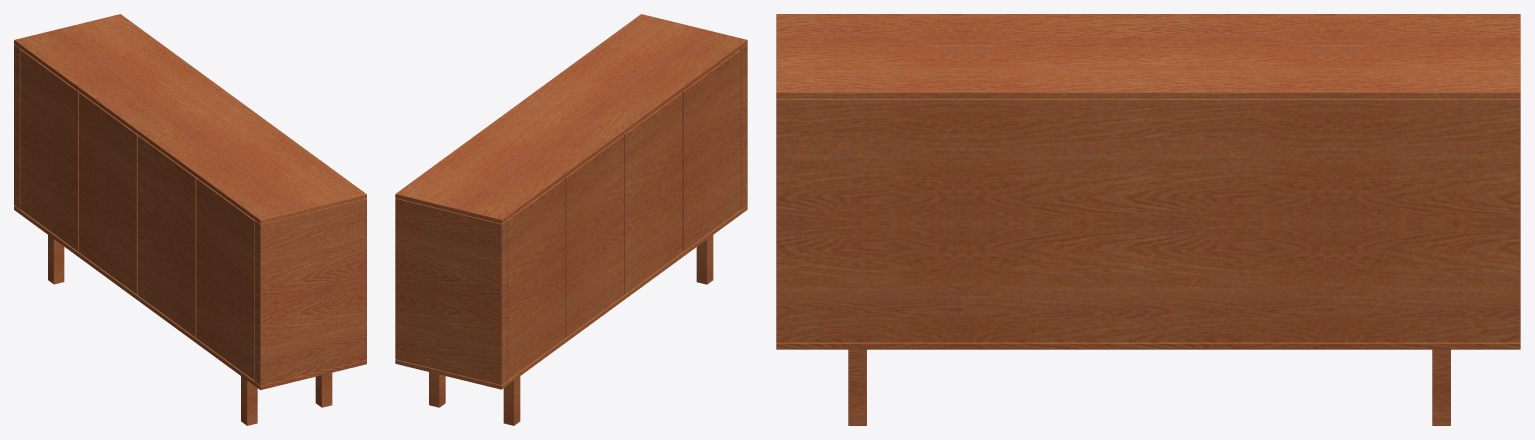
The model's file is Cabinet2.FBX.
The picture shows the model from 3 angles, left to right: view 1: azimuth 30°, elevation 25°; view 2: azimuth 150°, elevation 25°; view 3: azimuth 270°, elevation 25°; orthographic projection. The views are drawn at different scales.
Visible parts, largest first — view 1: Object047, Shape082; view 2: Object047, Shape082; view 3: Object047, Shape082.
Part boxes in pixels (x1=…): Object047: x1=14, y1=14, x2=366, y2=389; Shape082: x1=48, y1=235, x2=332, y2=425; Object047: x1=395, y1=14, x2=747, y2=389; Shape082: x1=429, y1=235, x2=713, y2=425; Object047: x1=776, y1=14, x2=1520, y2=349; Shape082: x1=848, y1=349, x2=1450, y2=425.
Bounding box in the file's own units: 0.4 × 0.81 × 1.6.
Materials: 1 (1 with a texture image).
